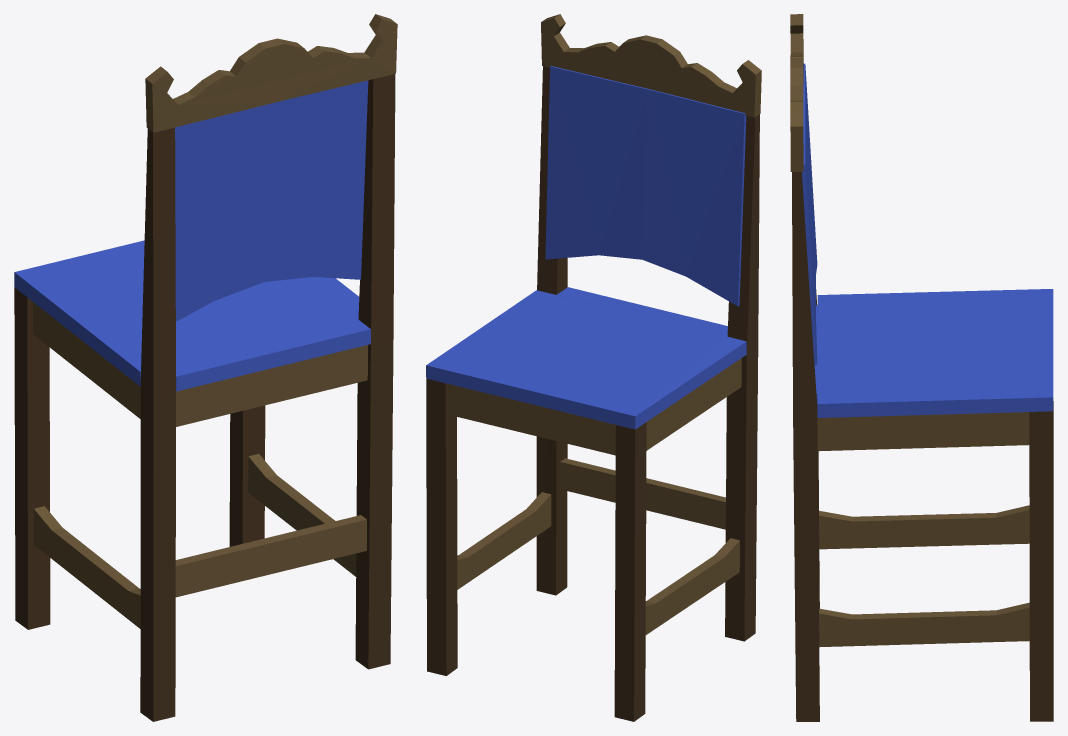
The model's file is chair_3.FBX.
3 views of the same model, side by side, from view 1: azimuth 30°, elevation 25°; view 2: azimuth 150°, elevation 25°; view 3: azimuth 270°, elevation 25° (orthographic). The views are drawn at different scales.
Visible parts, largest first — view 1: chair_3; view 2: chair_3; view 3: chair_3.
Boxes of the visible parts, box(x1,y1,x2,y2) form: chair_3: box(14, 14, 397, 721); chair_3: box(426, 14, 761, 721); chair_3: box(790, 14, 1053, 721).
Bounding box in the file's own units: 17.06 × 43.2 × 17.04.
